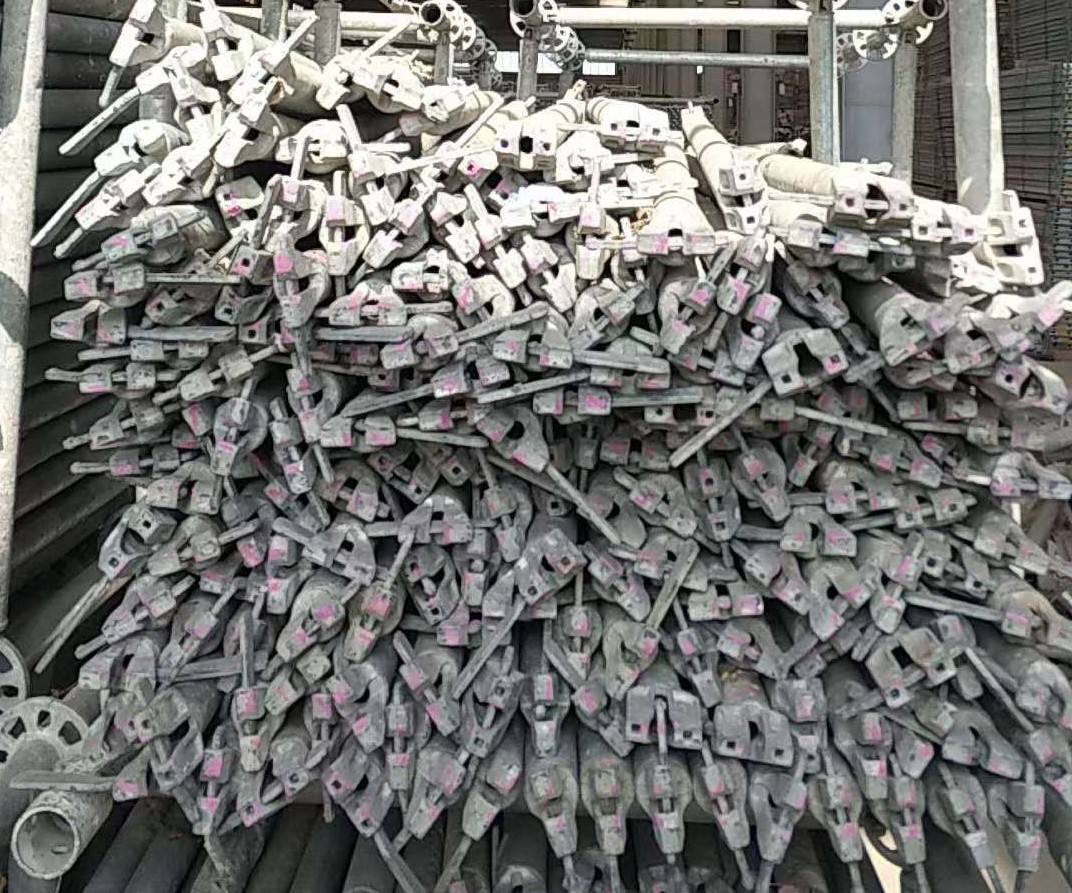NHsquare_steel: (456, 758, 518, 843), (522, 766, 576, 855), (657, 275, 717, 355), (404, 759, 465, 837), (328, 672, 387, 751), (263, 647, 330, 716), (879, 304, 955, 364), (71, 169, 145, 230), (96, 588, 178, 643), (400, 659, 459, 734), (210, 96, 271, 168), (871, 547, 920, 635), (782, 261, 848, 326), (702, 767, 753, 851), (897, 705, 954, 780), (716, 624, 789, 682), (480, 411, 547, 474), (945, 318, 1022, 372), (568, 291, 637, 351), (88, 122, 164, 176), (177, 350, 254, 403), (568, 688, 628, 756), (142, 147, 211, 205), (424, 191, 480, 262), (738, 448, 791, 523), (158, 610, 220, 674), (224, 45, 291, 104), (730, 292, 780, 371), (99, 212, 178, 262), (361, 199, 419, 267), (763, 775, 807, 864), (943, 791, 993, 869), (645, 768, 689, 855), (884, 777, 927, 866), (585, 769, 630, 854), (299, 537, 376, 586), (393, 87, 471, 135), (606, 624, 658, 696), (807, 574, 867, 636), (746, 554, 809, 613), (591, 558, 650, 621), (721, 235, 768, 314), (676, 629, 722, 709), (344, 589, 393, 664), (473, 217, 524, 289), (347, 149, 393, 227), (1026, 728, 1072, 806), (219, 495, 268, 568), (783, 416, 834, 486), (189, 749, 229, 838), (76, 650, 155, 695), (267, 422, 316, 494), (973, 527, 1048, 574), (108, 1, 163, 65), (630, 481, 694, 536), (823, 774, 862, 864), (205, 399, 251, 475), (940, 736, 1021, 779), (940, 615, 980, 702), (1000, 604, 1072, 652), (378, 704, 417, 792), (314, 49, 371, 109), (1006, 784, 1044, 873), (143, 531, 218, 576), (523, 240, 571, 310), (59, 261, 145, 300), (377, 330, 460, 370), (524, 672, 563, 757), (580, 496, 645, 547), (232, 686, 271, 771), (869, 445, 942, 490), (260, 177, 304, 251), (984, 465, 1072, 502), (271, 249, 311, 328), (197, 7, 239, 82), (143, 477, 222, 516), (87, 406, 162, 447), (854, 713, 889, 800), (483, 485, 523, 561), (170, 78, 215, 145), (355, 66, 422, 111), (286, 368, 326, 443), (630, 550, 704, 590), (503, 193, 580, 231), (258, 538, 296, 614), (48, 310, 128, 346), (314, 478, 378, 523), (778, 523, 855, 560), (488, 335, 574, 368), (428, 363, 509, 398), (675, 346, 744, 387), (572, 203, 608, 281), (458, 527, 493, 605), (684, 589, 769, 621), (1012, 682, 1072, 727), (636, 224, 717, 257), (453, 279, 502, 333), (321, 197, 354, 277), (786, 225, 868, 257), (74, 367, 161, 397), (323, 299, 407, 330), (528, 387, 611, 418), (597, 437, 672, 471), (968, 416, 1045, 449), (618, 247, 655, 314), (398, 513, 473, 546), (543, 149, 615, 183), (816, 484, 902, 512), (411, 142, 458, 192), (104, 447, 182, 477), (306, 693, 338, 766), (559, 608, 592, 678), (276, 136, 351, 166), (322, 417, 397, 447), (590, 364, 672, 391), (121, 340, 215, 363), (898, 395, 980, 421), (918, 436, 973, 474), (437, 617, 511, 645), (418, 402, 489, 430), (593, 174, 662, 201), (573, 417, 603, 465)
THsquare_steel: (87, 511, 165, 583), (769, 335, 847, 394), (991, 360, 1071, 416), (320, 769, 384, 837), (520, 535, 581, 606), (991, 215, 1044, 286), (710, 720, 790, 766), (80, 711, 135, 769), (790, 689, 826, 772), (491, 128, 558, 166), (643, 399, 721, 429), (364, 365, 435, 393), (456, 159, 508, 197), (838, 249, 917, 274)
THsquare_steel_blocked: (870, 638, 953, 708), (461, 666, 522, 756), (130, 712, 194, 788), (236, 764, 311, 825), (830, 176, 913, 227), (212, 243, 264, 324), (397, 549, 451, 624), (628, 702, 705, 753), (143, 263, 206, 324), (692, 464, 740, 543), (919, 547, 988, 597), (373, 449, 431, 502), (910, 212, 980, 253), (893, 490, 966, 529), (724, 164, 764, 231), (214, 183, 259, 242), (420, 435, 472, 485), (533, 446, 569, 516), (600, 115, 671, 150)
circle_steel: (8, 806, 87, 881)
